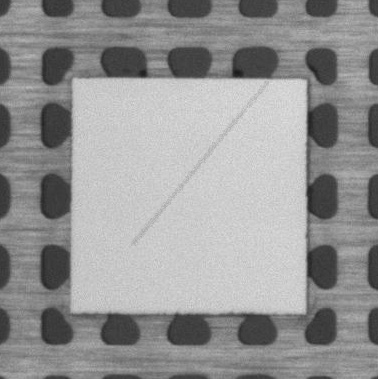DIE_CRACK: (134, 83, 266, 244)
